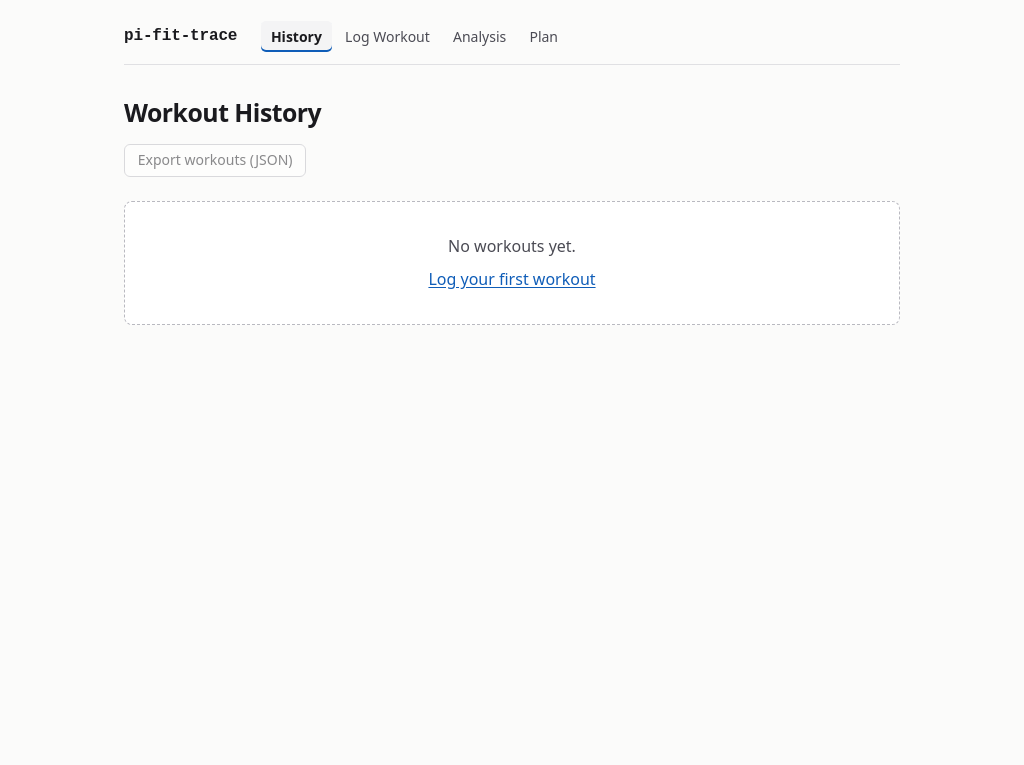
Test: App integration › does not persist an invalid workout
Click the link "Log Workout".
click(387, 36)  # box [345,27,430,46]
(page scrolled)
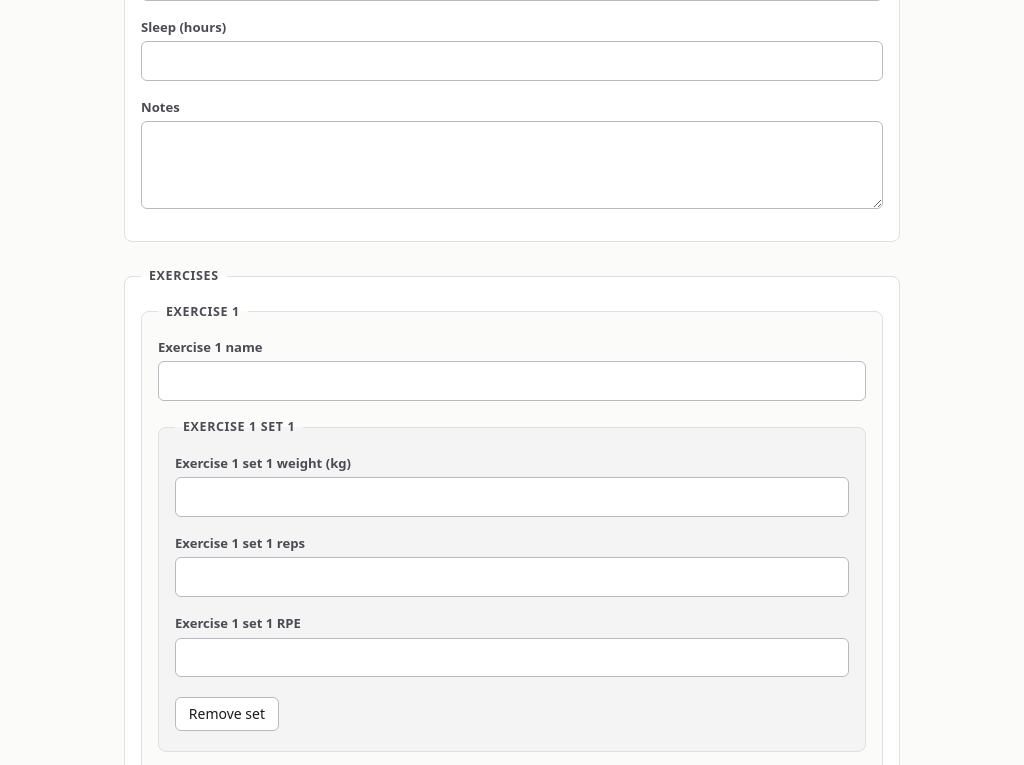
Type "Squat" into the field labelled "Exercise 1 name".
click(512, 381); type("Squat")  # box [158,362,866,401]
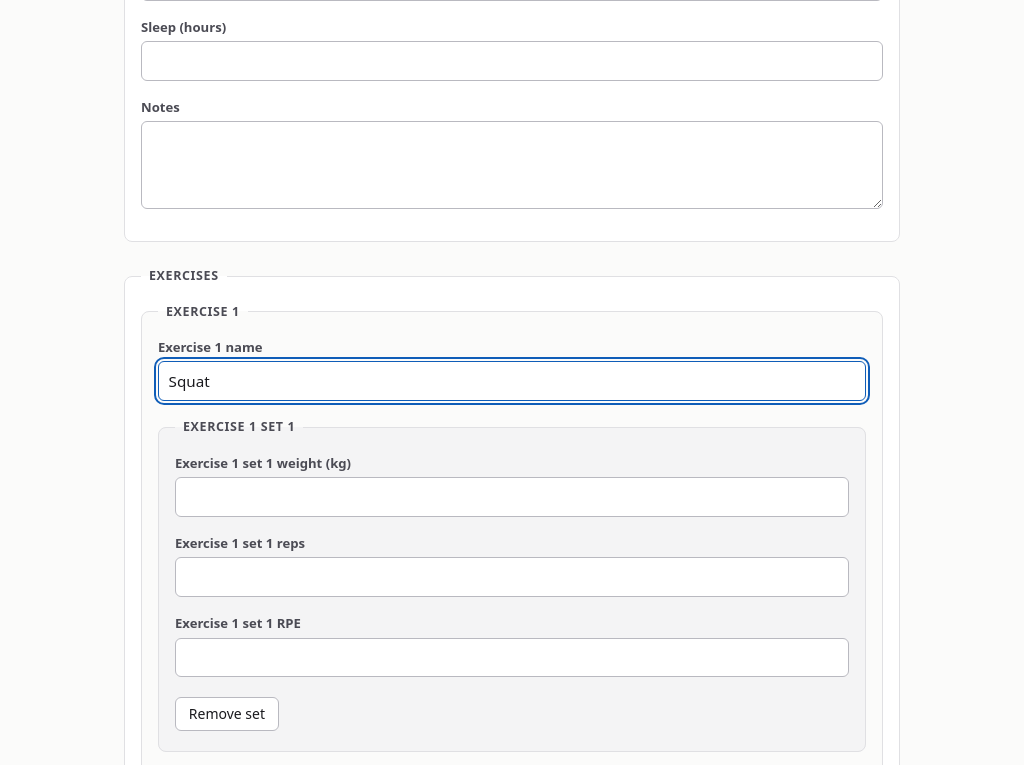
Type "-5" into the number field labelled "Exercise 1 set 1 weight (kg)".
click(512, 497); type("-5")  # box [175,477,849,517]
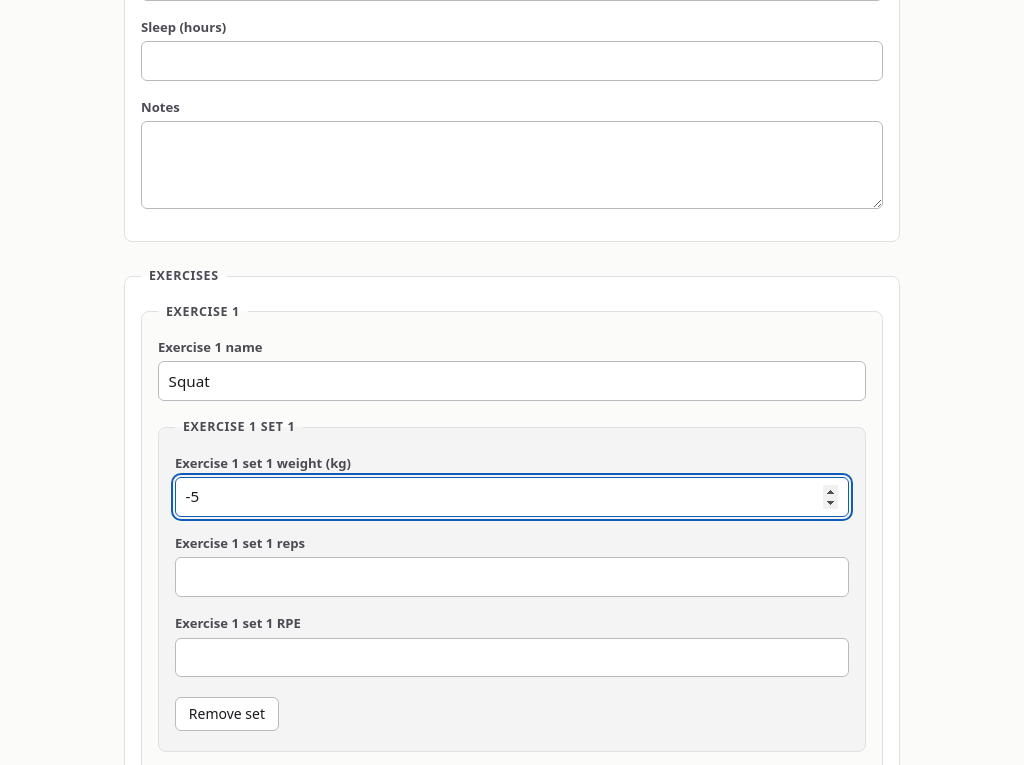
Type "5" into the number field labelled "Exercise 1 set 1 reps".
click(512, 577); type("5")  # box [175,557,849,597]
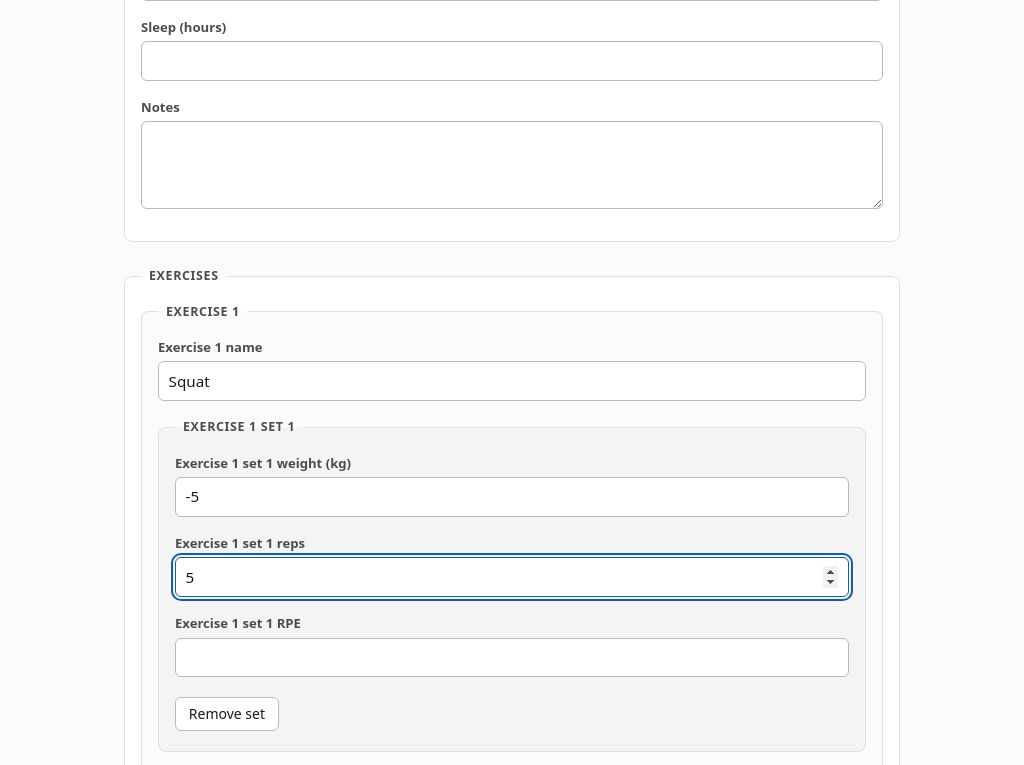
Type "8" into the number field labelled "Exercise 1 set 1 RPE".
click(512, 658); type("8")  # box [175,638,849,678]
(page scrolled)
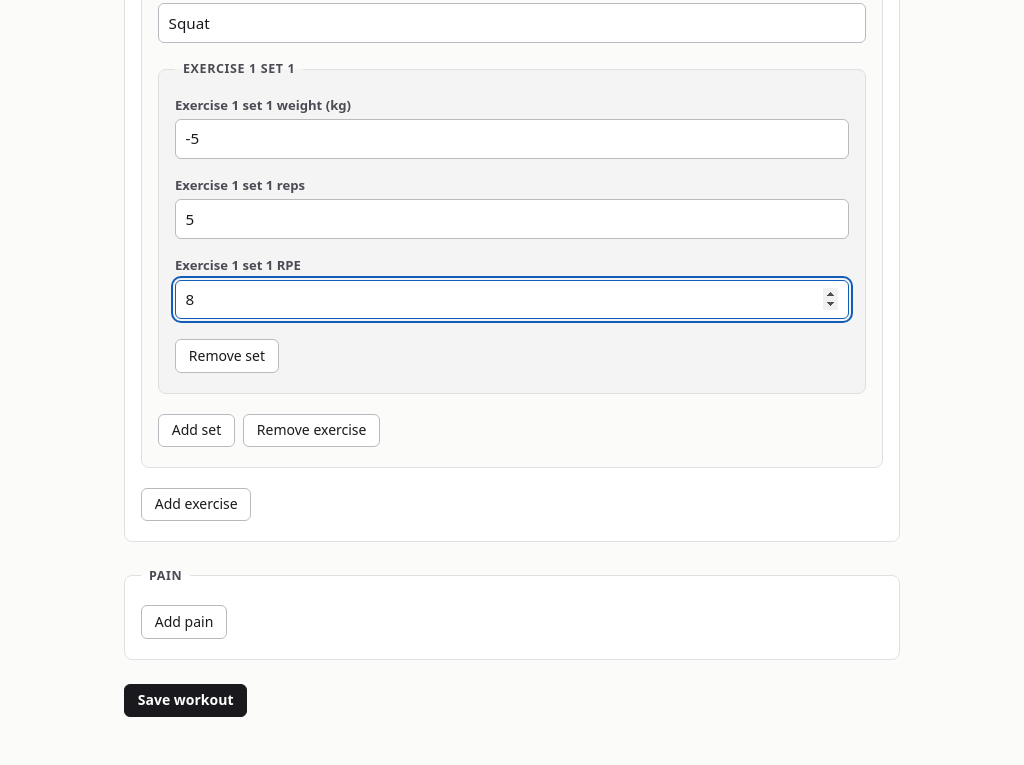
Click the button "Save workout".
click(186, 700)  # box [124,684,247,717]
(page scrolled)
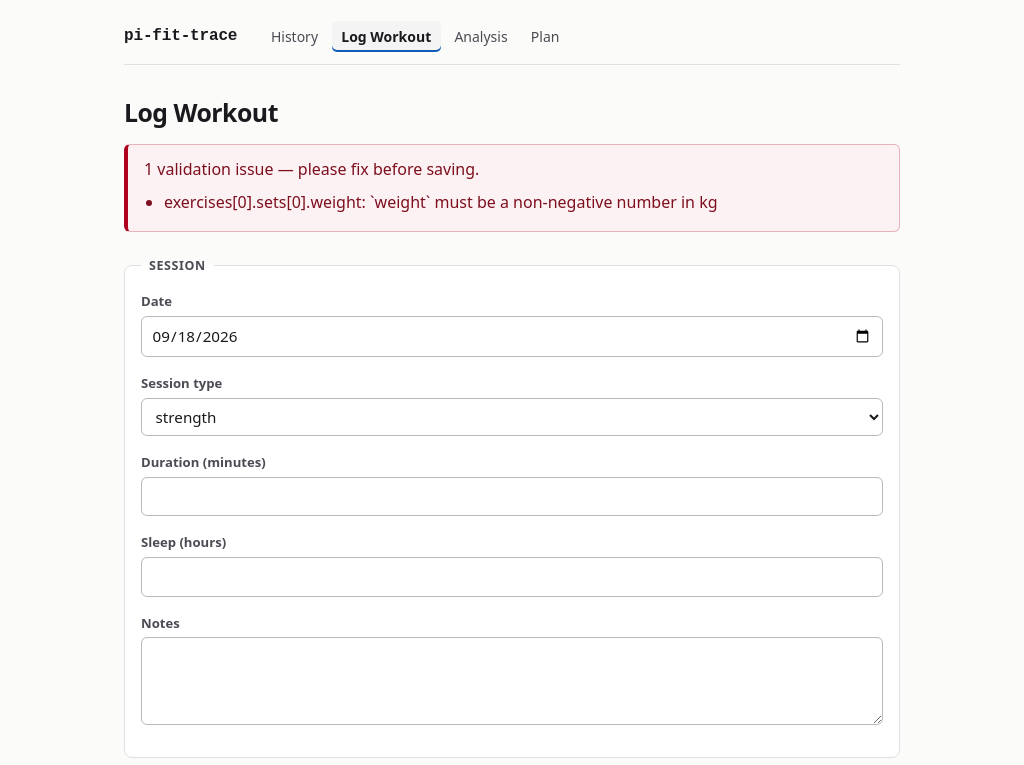
expect the heading "Log Workout" is shown: met, box [124,95,278,129]
expect the message with test id "validation-summary" is shown: met, box [124,144,900,232]
